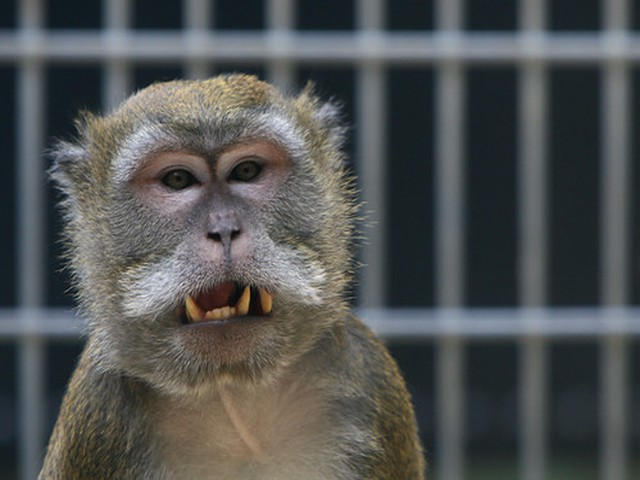Monkey: (37, 67, 431, 479)
